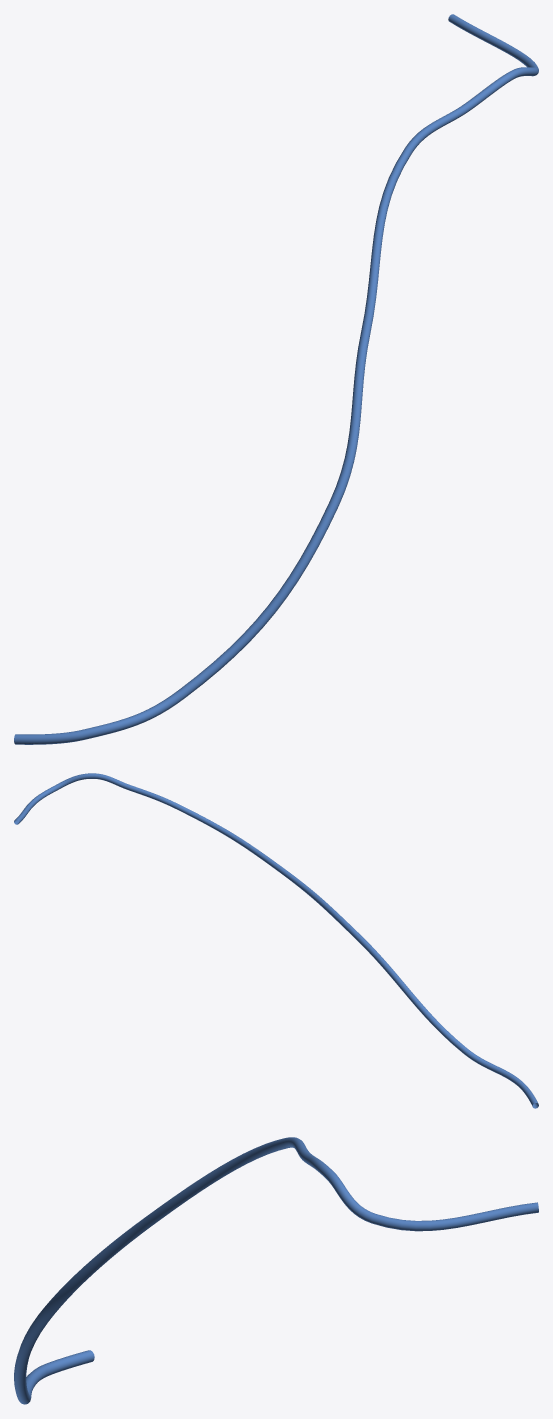
The picture shows the model from 3 angles, top to bottom: view 1: azimuth 30°, elevation 25°; view 2: azimuth 150°, elevation 25°; view 3: azimuth 270°, elevation 25°; orthographic projection. The views are drawn at different scales.
Parts seen in each view (by area): view 1: 左侧肩胛上静脉; view 2: 左侧肩胛上静脉; view 3: 左侧肩胛上静脉.
Boxes of the visible parts, x1,y1,x2,y2 form: 左侧肩胛上静脉: [14, 14, 538, 744]; 左侧肩胛上静脉: [14, 773, 538, 1108]; 左侧肩胛上静脉: [14, 1137, 538, 1404].
Bounding box in the file's own units: 0.1495 × 0.0995 × 0.0881.
